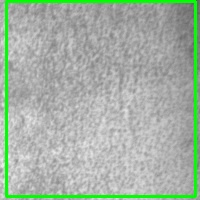pitted_surface: (6, 1, 195, 196)
